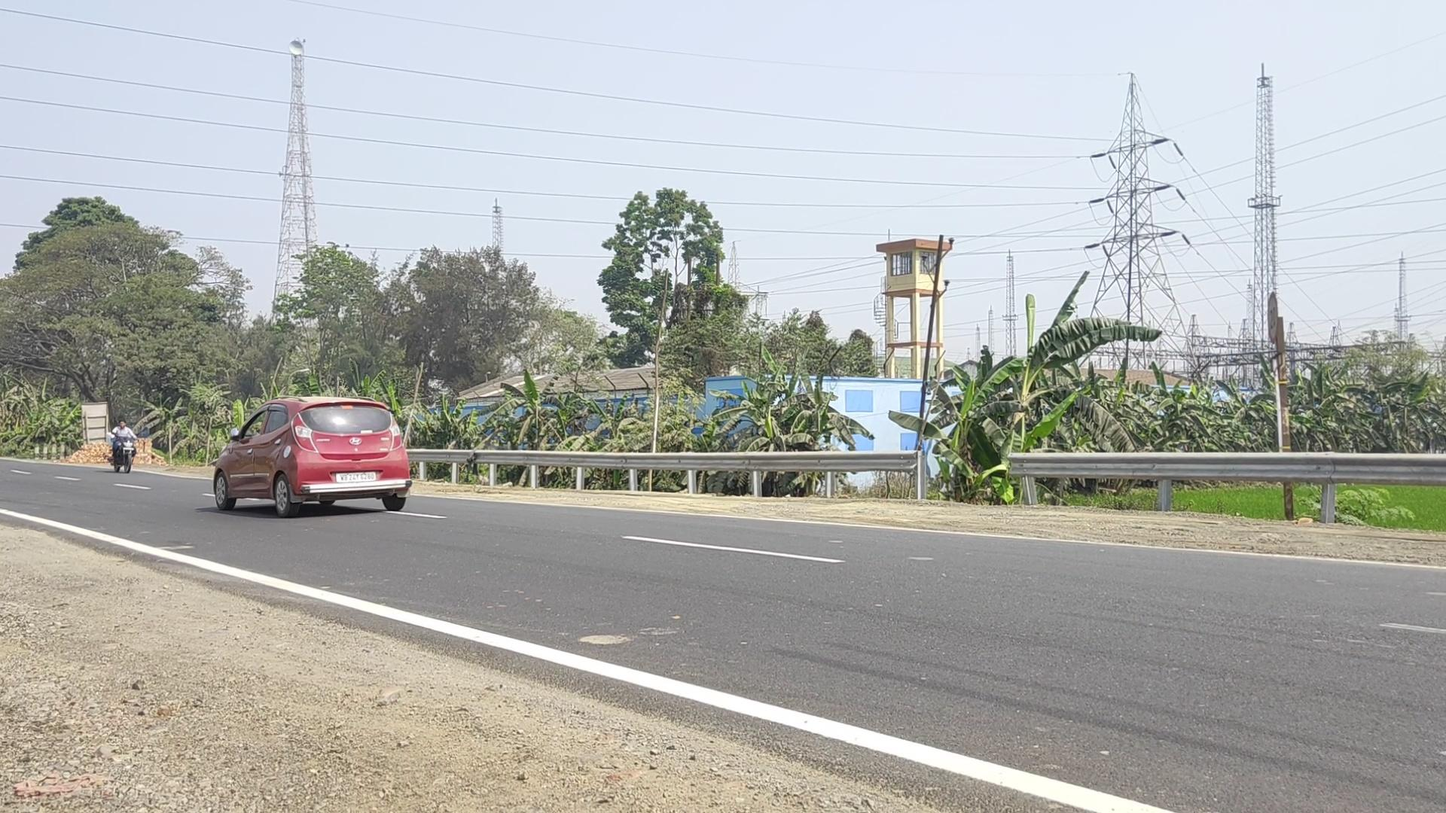bike: (107, 419, 139, 473)
car: (213, 395, 412, 519)
